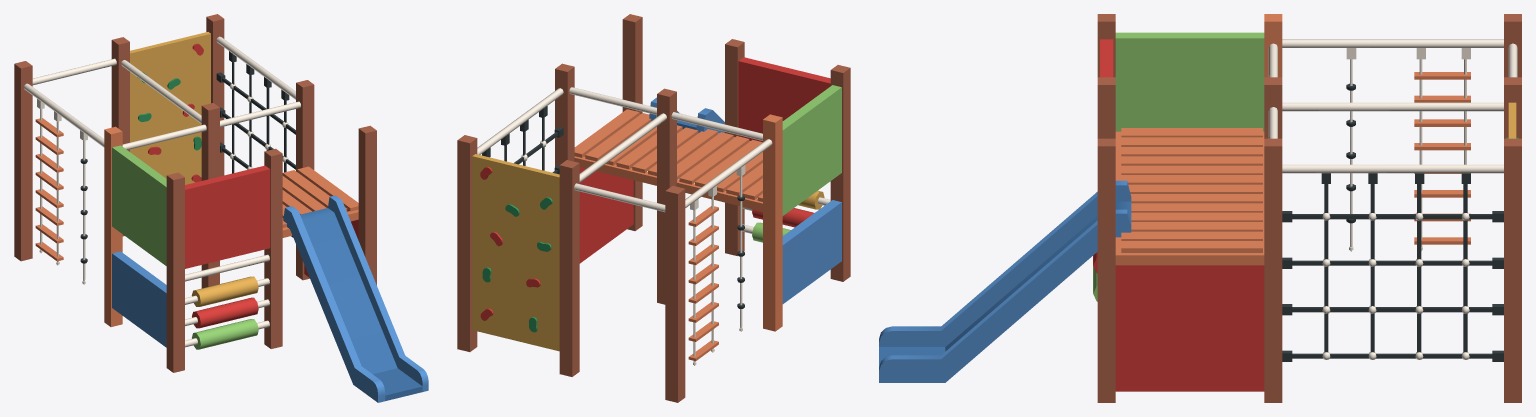
Rendered from ClimbingFrame_03.fbx.
3 views of the same model, side by side, from view 1: azimuth 30°, elevation 25°; view 2: azimuth 150°, elevation 25°; view 3: azimuth 270°, elevation 25° (orthographic). The views are drawn at different scales.
Visible parts, largest first — view 1: ClimbingFrame_03; view 2: ClimbingFrame_03; view 3: ClimbingFrame_03.
Part boxes in pixels (x1,y1,x2,y2): ClimbingFrame_03: [14, 14, 428, 402]; ClimbingFrame_03: [457, 14, 850, 402]; ClimbingFrame_03: [879, 14, 1521, 402].
Bounding box in the file's own units: 2.65 × 2.39 × 5.43.
